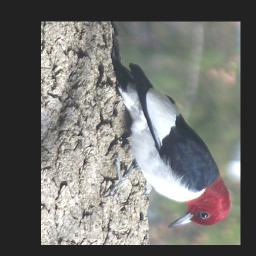Woodpecker: (98, 58, 232, 230)
